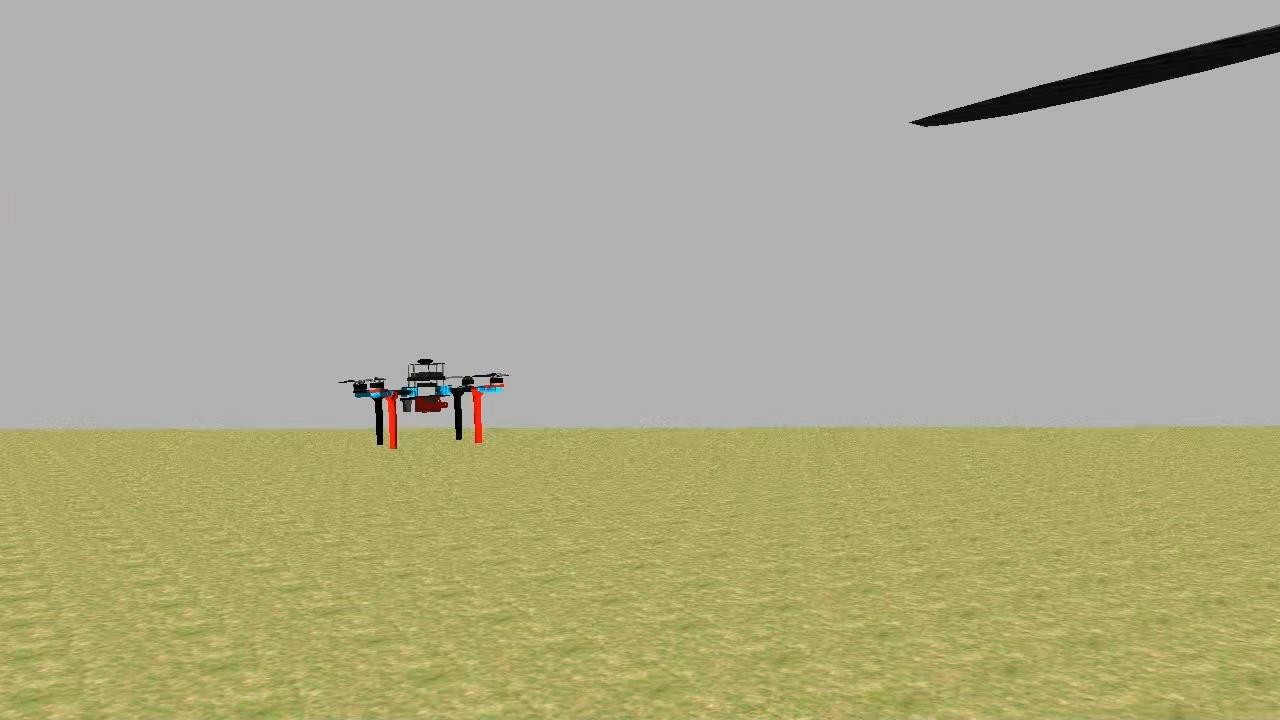UAV: (352, 360, 510, 458)
